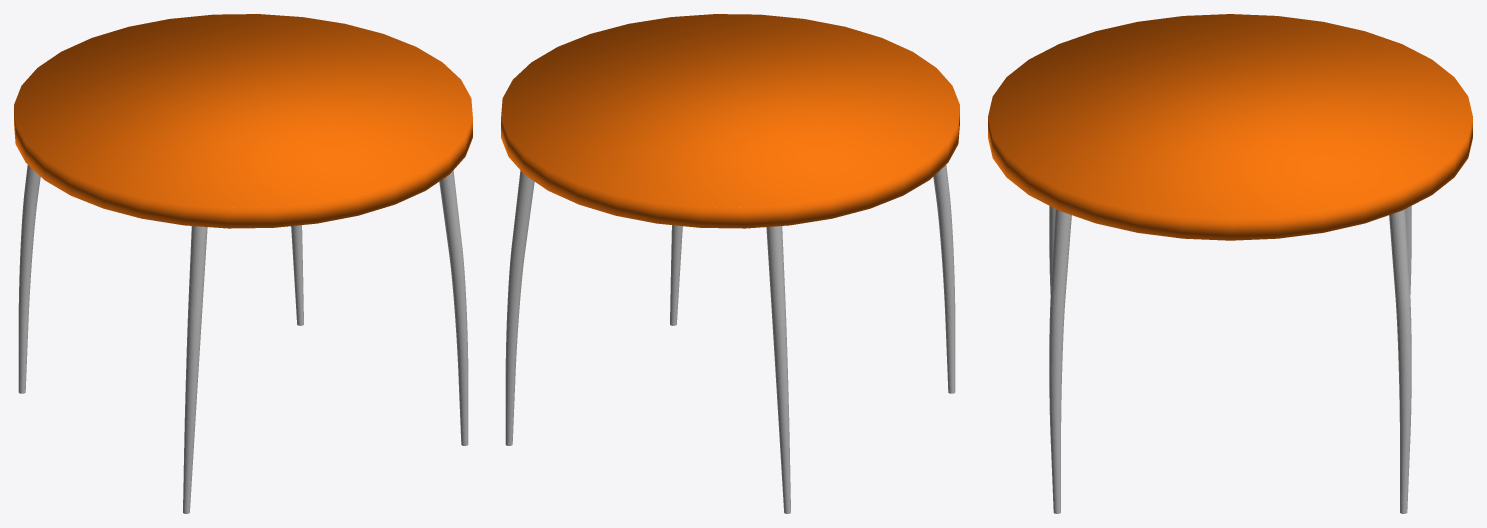
The model's file is MesaCocinaRocko.obj.
3 renders of one model, left to right at view 1: azimuth 30°, elevation 25°; view 2: azimuth 150°, elevation 25°; view 3: azimuth 270°, elevation 25°, orthographic. The views are drawn at different scales.
Visible parts, largest first — view 1: MesaCocinaRocko:Mesh; view 2: MesaCocinaRocko:Mesh; view 3: MesaCocinaRocko:Mesh.
Part boxes in pixels (left/top/right/bottom): MesaCocinaRocko:Mesh: left=14, top=14, right=472, bottom=513; MesaCocinaRocko:Mesh: left=501, top=14, right=959, bottom=513; MesaCocinaRocko:Mesh: left=988, top=14, right=1472, bottom=513.
Size of the model in its own units: 2 by 1.48 by 2.
Materials: 2 (1 with a texture image).
